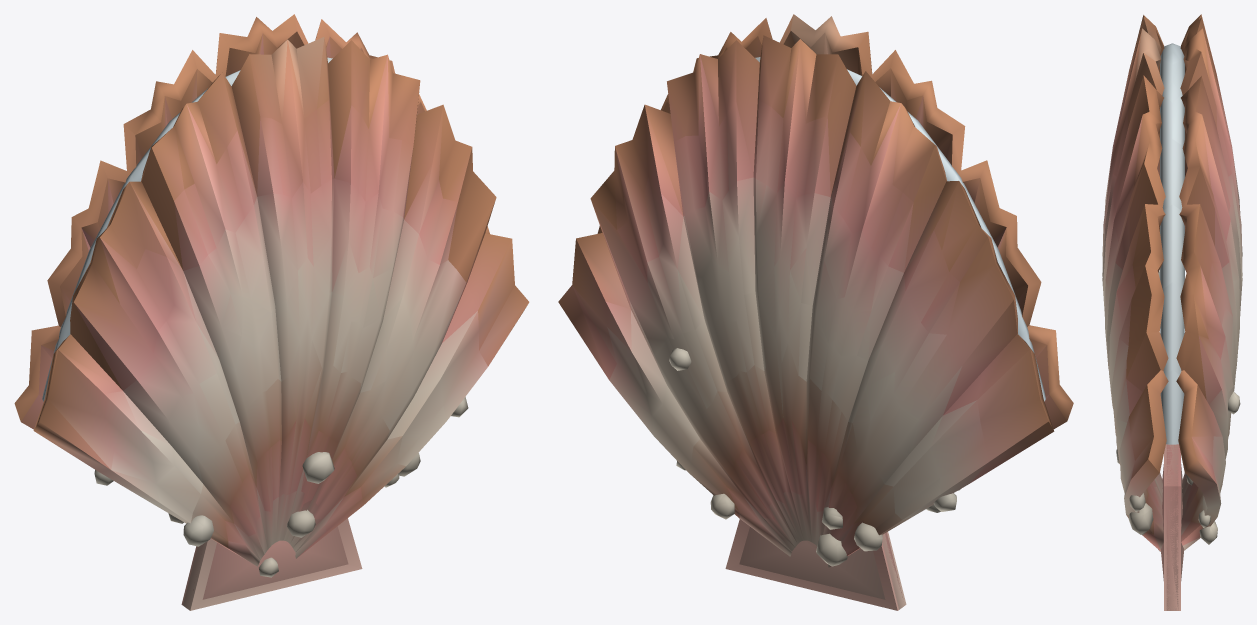
The model's file is shore_clam_seal_lod1.glb.
The picture shows the model from 3 angles, left to right: view 1: azimuth 30°, elevation 25°; view 2: azimuth 150°, elevation 25°; view 3: azimuth 270°, elevation 25°; orthographic projection. The views are drawn at different scales.
Visible parts, largest first — view 1: shore_clam_seal.001; view 2: shore_clam_seal.001; view 3: shore_clam_seal.001.
Part boxes in pixels (bbox=[...]): shore_clam_seal.001: bbox=[14, 14, 529, 610]; shore_clam_seal.001: bbox=[558, 14, 1073, 610]; shore_clam_seal.001: bbox=[1102, 14, 1242, 610].
Size of the model in its own units: 8.9 by 9.7 by 2.27.
